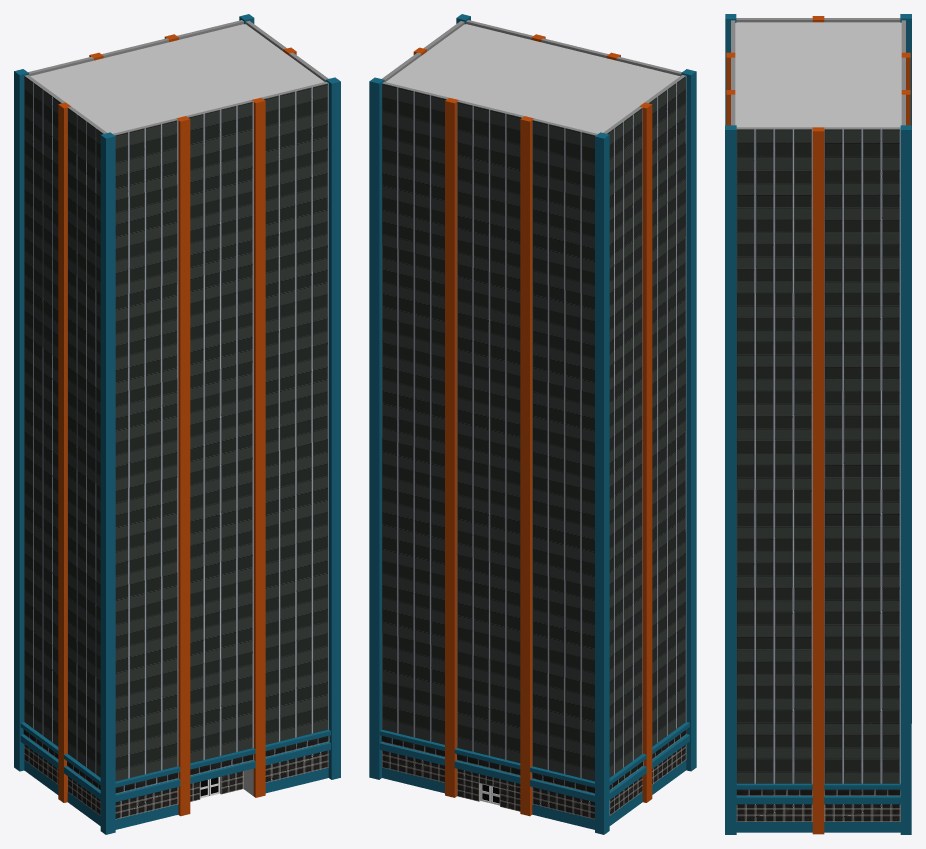
Rendered from Office-04.fbx.
The picture shows the model from 3 angles, left to right: view 1: azimuth 30°, elevation 25°; view 2: azimuth 150°, elevation 25°; view 3: azimuth 270°, elevation 25°; orthographic projection.
Visible parts, largest first — view 1: Building; view 2: Building; view 3: Building.
Part boxes in pixels (<box>): Building: <box>14,14,340,834</box>; Building: <box>369,14,696,834</box>; Building: <box>725,14,911,834</box>.
Size of what is drawn, in the model's own units: 30.46 by 86.2 by 20.7.
